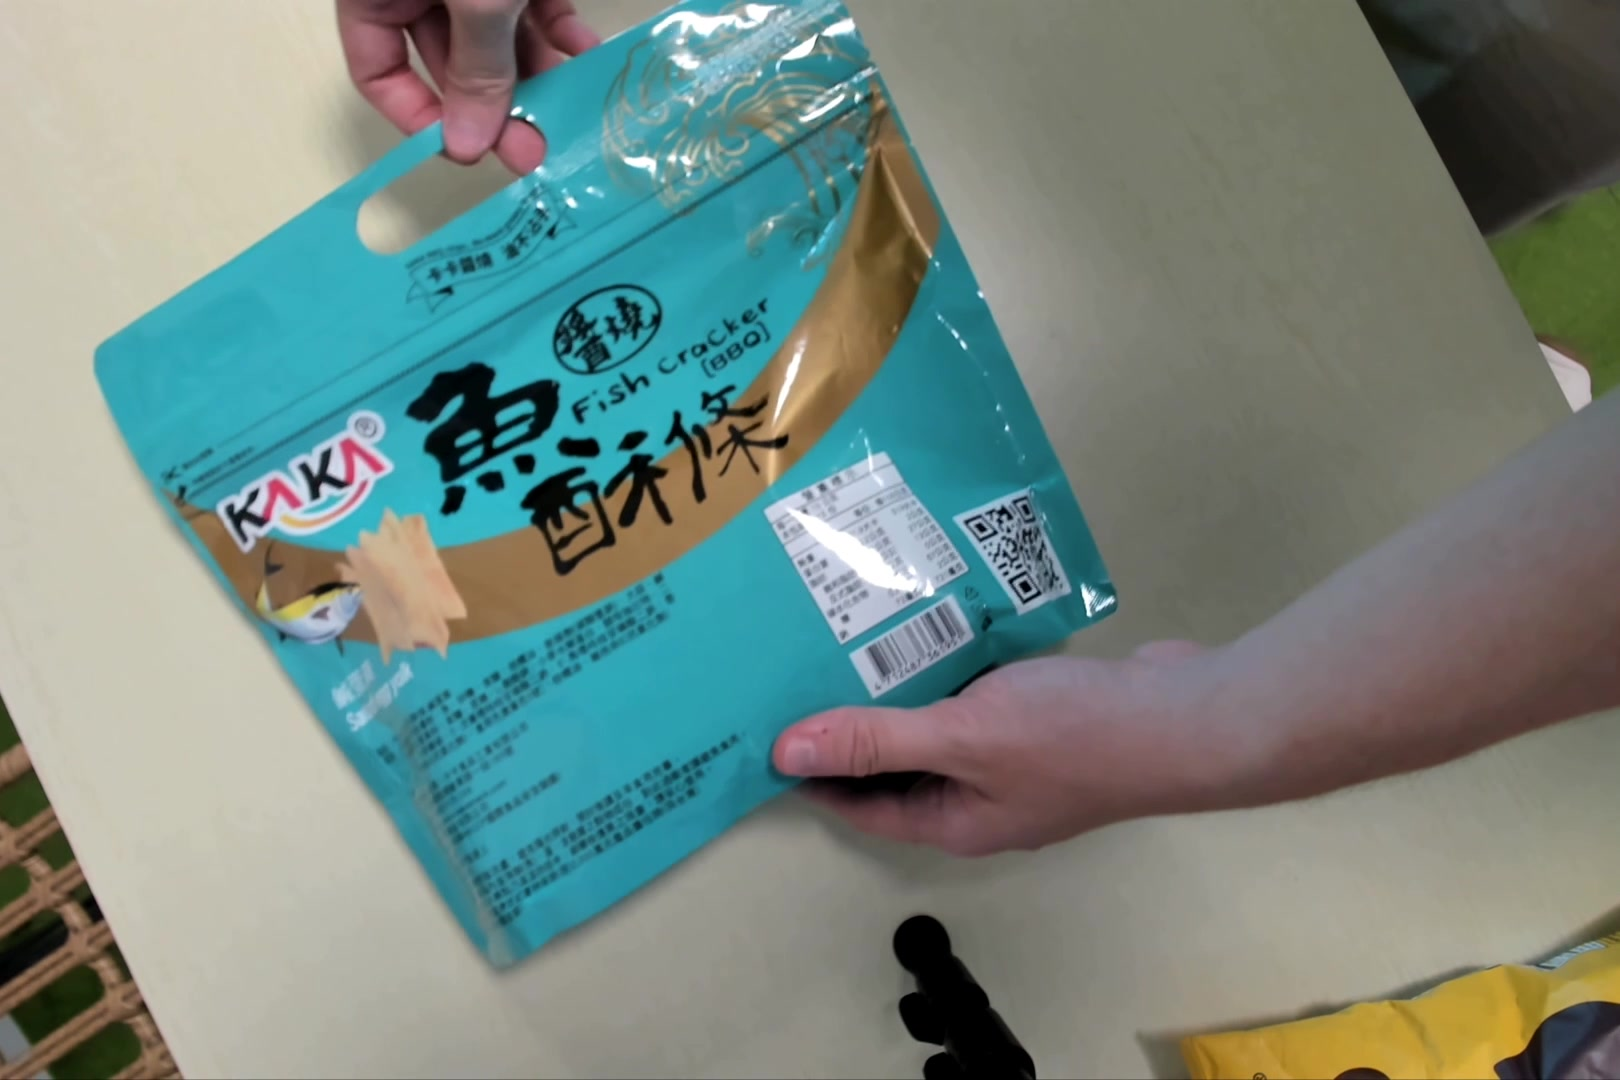PotatoChipsKeropok_100-199g_NonHalal_NonHealthy: (81, 7, 1103, 961)
